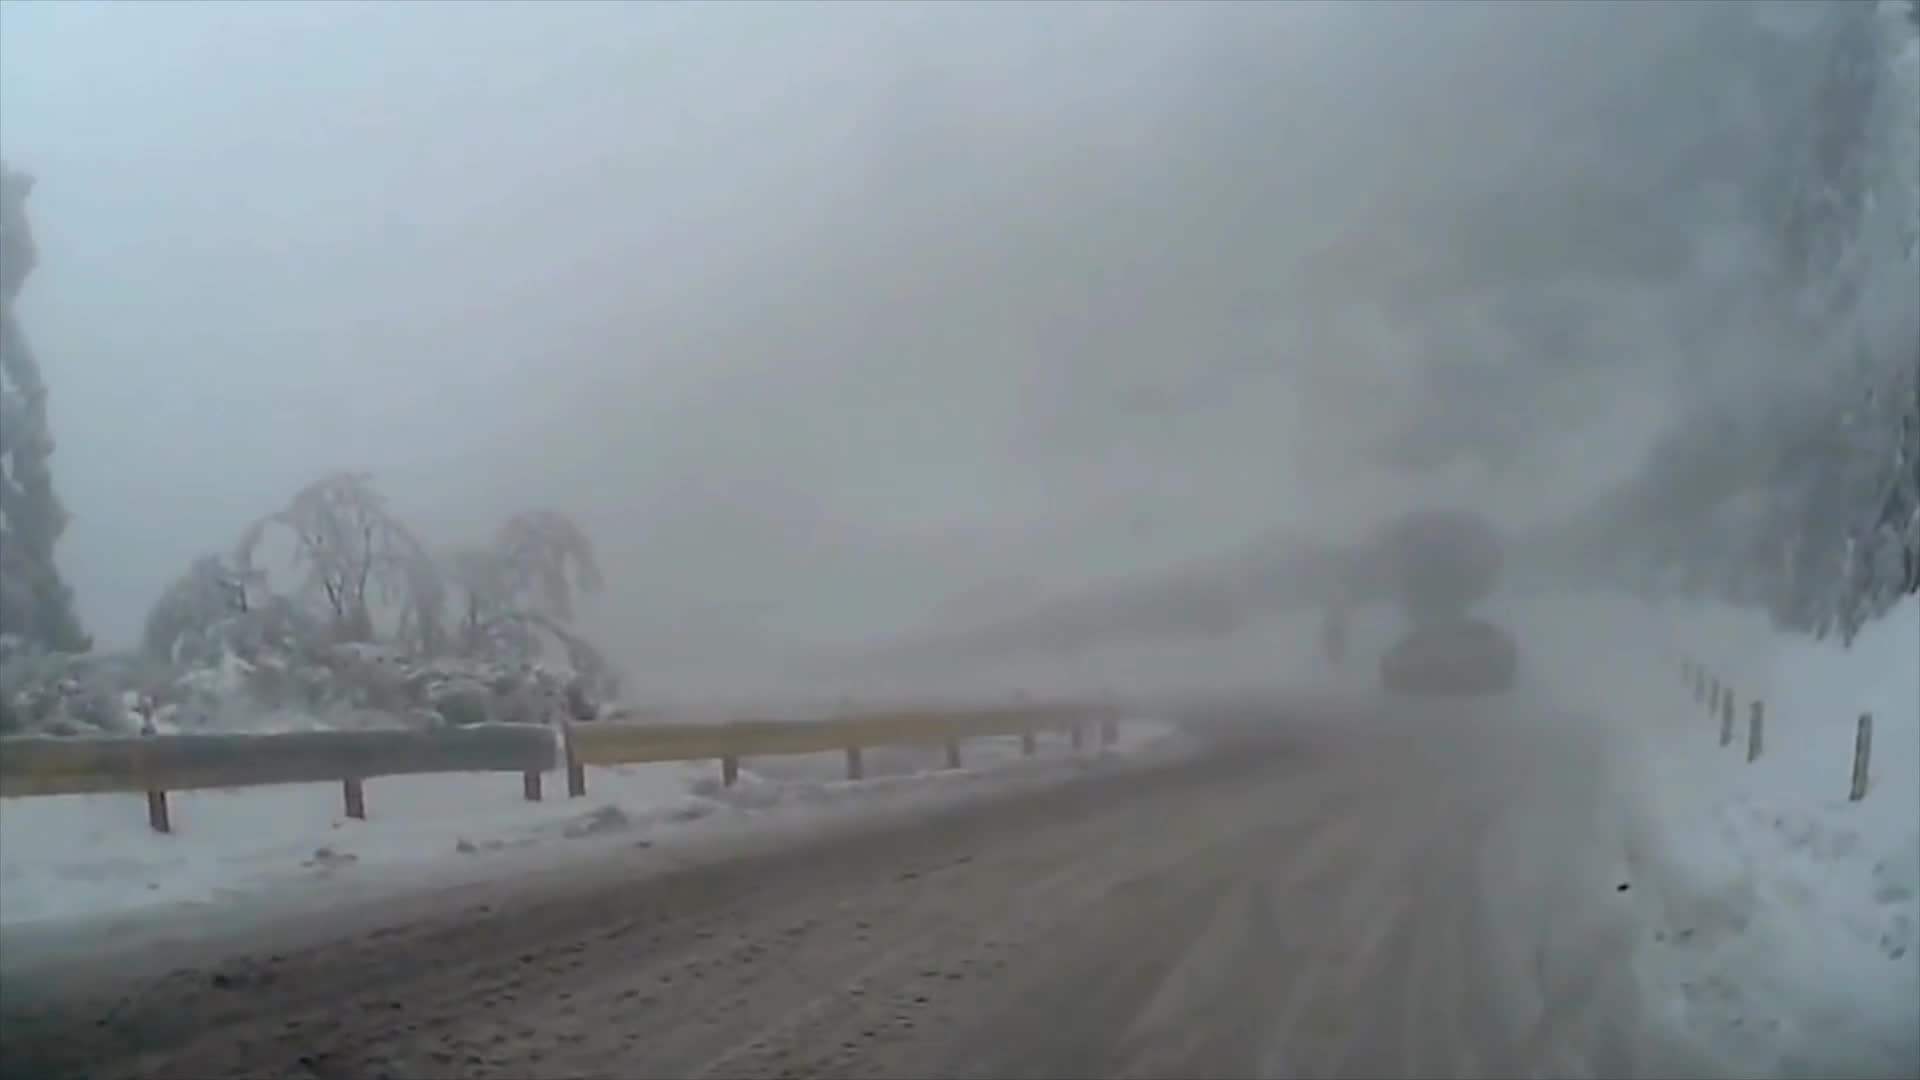vehicle: (1379, 622, 1520, 699)
